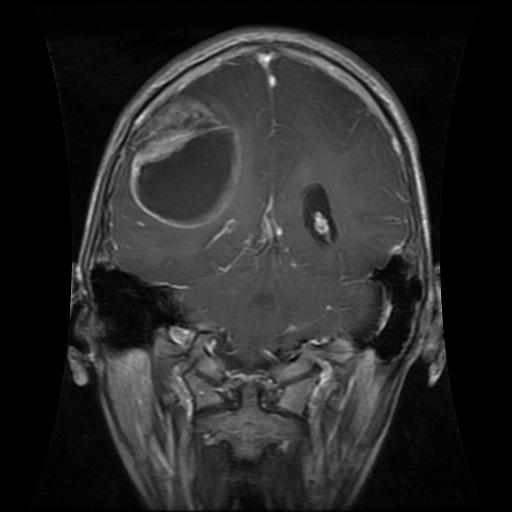Gliomia_tumour: (128, 90, 241, 228)
